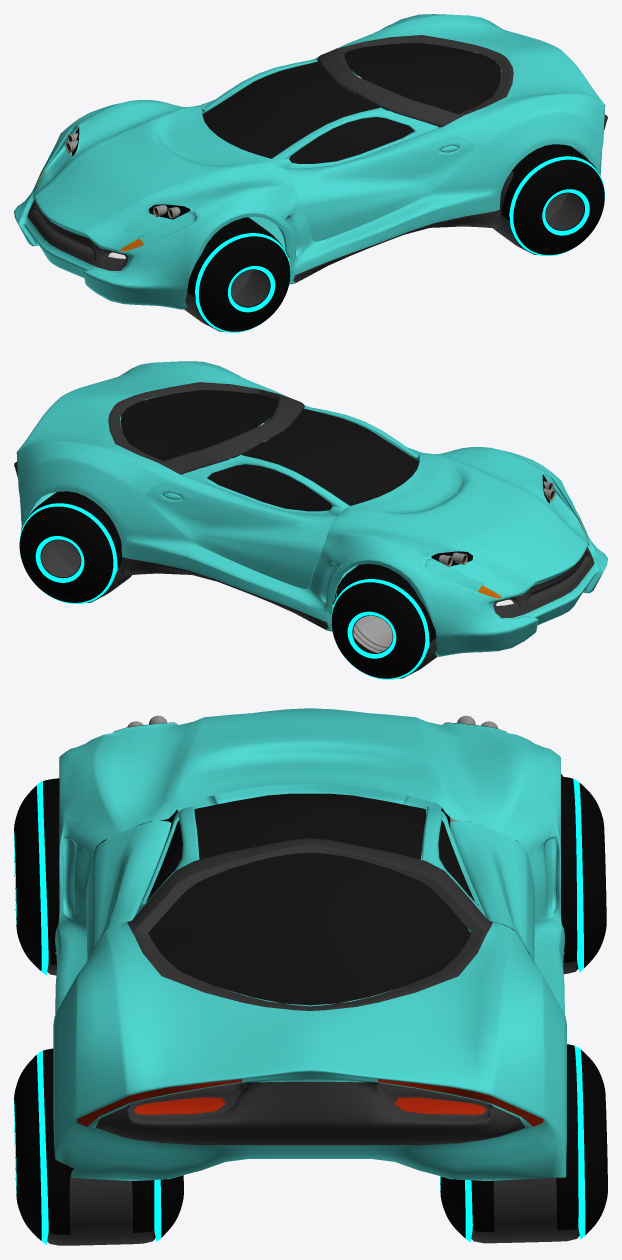
The model's file is car.glb.
3 renders of one model, top to bottom at view 1: azimuth 30°, elevation 25°; view 2: azimuth 150°, elevation 25°; view 3: azimuth 270°, elevation 25°, orthographic. The views are drawn at different scales.
Visible parts, largest first — view 1: carbody_Circle, doors_Circle.004, canopy_Circle.001, Cylinder002.001, rearwindow_Circle.002, Cylinder002, Cylinder001.001, Cylinder001, doors.001_Circle.013; view 2: carbody_Circle, doors.001_Circle.013, canopy_Circle.001, Cylinder002.003, Cylinder002.002, rearwindow_Circle.002, Cylinder001.003, rim.003_Mesh.002, doors_Circle.004; view 3: carbody_Circle, rearwindow_Circle.002, canopy_Circle.001, Cylinder002.001, Cylinder002.003, doors.001_Circle.013, doors_Circle.004, Cylinder002, Cylinder002.002, Cylinder001.001, Cylinder001.003.
Boxes of the visible parts, x1,y1,x2,y2 form: carbody_Circle: [14, 14, 607, 309]; doors_Circle.004: [271, 107, 476, 241]; canopy_Circle.001: [202, 61, 379, 158]; Cylinder002.001: [502, 144, 604, 256]; rearwindow_Circle.002: [344, 42, 501, 113]; Cylinder002: [187, 217, 290, 332]; Cylinder001.001: [493, 170, 584, 254]; Cylinder001: [184, 270, 269, 331]; doors.001_Circle.013: [195, 48, 336, 114]; carbody_Circle: [14, 361, 607, 656]; doors.001_Circle.013: [145, 455, 349, 588]; canopy_Circle.001: [242, 408, 419, 505]; Cylinder002.003: [19, 491, 121, 603]; Cylinder002.002: [331, 564, 436, 679]; rearwindow_Circle.002: [120, 390, 277, 460]; Cylinder001.003: [41, 524, 131, 602]; rim.003_Mesh.002: [353, 615, 392, 652]; doors_Circle.004: [285, 396, 424, 461]; carbody_Circle: [53, 708, 566, 1180]; rearwindow_Circle.002: [149, 852, 470, 1005]; canopy_Circle.001: [194, 793, 425, 859]; Cylinder002.001: [14, 1048, 183, 1244]; Cylinder002.003: [440, 1044, 607, 1242]; doors.001_Circle.013: [421, 806, 536, 966]; doors_Circle.004: [86, 806, 199, 960]; Cylinder002: [14, 778, 177, 975]; Cylinder002.002: [441, 776, 606, 972]; Cylinder001.001: [47, 1177, 155, 1245]; Cylinder001.003: [471, 1177, 579, 1243].
Size of the model in its own units: 8.27 by 2.45 by 4.7.
